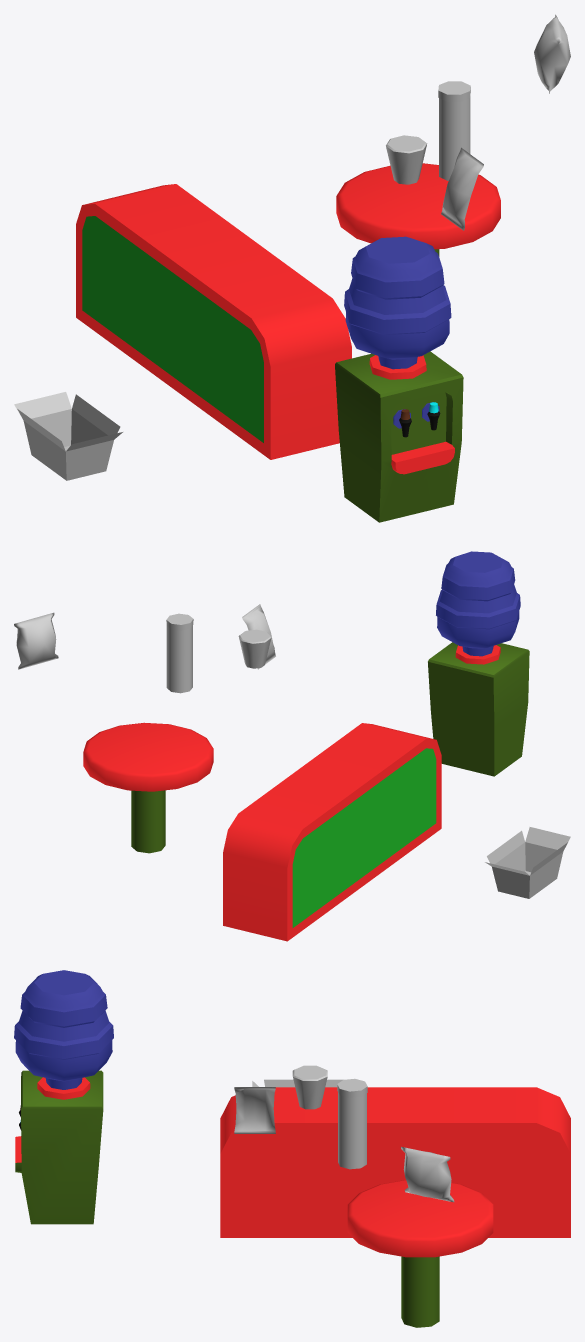
File: Convinient Low.fbx
The picture shows the model from 3 angles, top to bottom: view 1: azimuth 30°, elevation 25°; view 2: azimuth 150°, elevation 25°; view 3: azimuth 270°, elevation 25°; orthographic projection. The views are drawn at different scales.
Visible parts, largest first — view 1: counter_L, water _m_L, store table_L, box.006, chipstar_L, Chip_L, chip2_L, cup_L; view 2: counter_L, water _m_L, store table_L, box.006, chipstar_L, chip2_L, cup_L, Chip_L; view 3: counter_L, water _m_L, store table_L, chipstar_L, chip2_L, Chip_L, cup_L.
Boxes of the visible parts, bbox=[...] form: counter_L: bbox=[76, 184, 351, 459]; water _m_L: bbox=[335, 236, 463, 522]; store table_L: bbox=[336, 163, 500, 256]; box.006: bbox=[14, 392, 122, 480]; chipstar_L: bbox=[438, 81, 470, 180]; Chip_L: bbox=[441, 147, 483, 230]; chip2_L: bbox=[534, 14, 570, 93]; cup_L: bbox=[386, 135, 427, 184]; counter_L: bbox=[223, 723, 441, 941]; water _m_L: bbox=[428, 551, 529, 776]; store table_L: bbox=[83, 722, 213, 853]; box.006: bbox=[485, 827, 570, 898]; chipstar_L: bbox=[166, 613, 193, 693]; chip2_L: bbox=[14, 612, 58, 669]; cup_L: bbox=[238, 629, 271, 668]; Chip_L: bbox=[242, 604, 275, 669]; counter_L: bbox=[220, 1087, 570, 1237]; water _m_L: bbox=[14, 970, 113, 1224]; store table_L: bbox=[347, 1180, 493, 1327]; chipstar_L: bbox=[337, 1078, 367, 1169]; chip2_L: bbox=[401, 1146, 454, 1202]; Chip_L: bbox=[234, 1087, 275, 1133]; cup_L: bbox=[292, 1065, 327, 1109].
Size of the model in its own units: 500 by 446 by 213.
